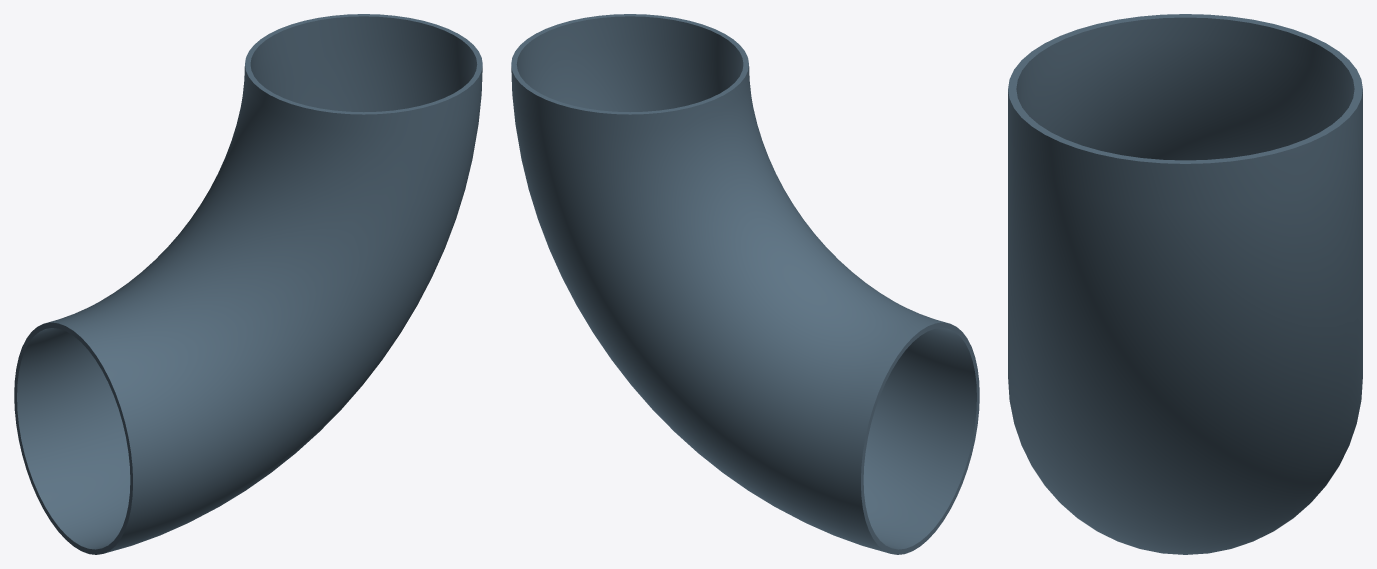
File: otvod-90-426x10-R600.glb
The picture shows the model from 3 angles, left to right: view 1: azimuth 30°, elevation 25°; view 2: azimuth 150°, elevation 25°; view 3: azimuth 270°, elevation 25°; orthographic projection. The views are drawn at different scales.
Parts seen in each view (by area): view 1: Open CASCADE STEP translator 7.9 93; view 2: Open CASCADE STEP translator 7.9 93; view 3: Open CASCADE STEP translator 7.9 93.
Boxes of the visible parts, <box> form: Open CASCADE STEP translator 7.9 93: <box>14,14,482,554</box>; Open CASCADE STEP translator 7.9 93: <box>511,14,979,554</box>; Open CASCADE STEP translator 7.9 93: <box>1008,14,1362,554</box>.
Bounding box in the file's own units: 813 × 813 × 426.
